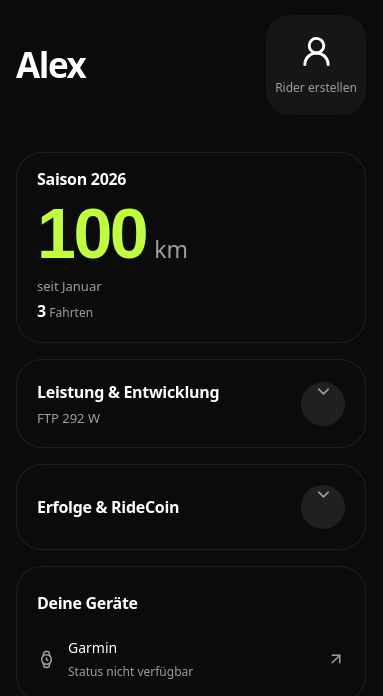
Test case: W3 profile review › explains CTL on demand without adding another permanent text block
Click the button "Leistung & Entwicklung FTP 292 W": (191, 404) [37, 380, 345, 427]
(page scrolled)
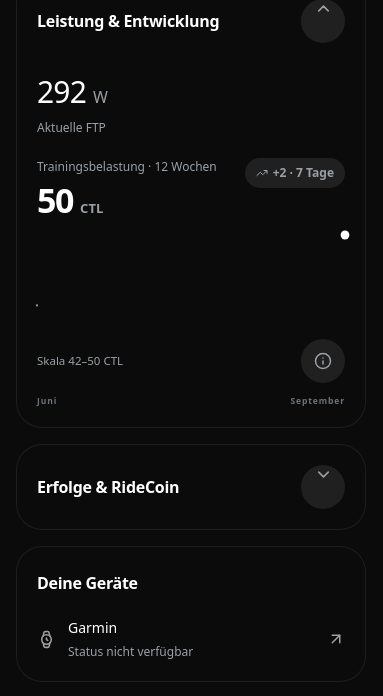
expect the text "CTL schätzt deine längerfristige" is not shown: met
Click the button named "Trainingsbelastung erklären": (323, 360) [301, 338, 345, 382]
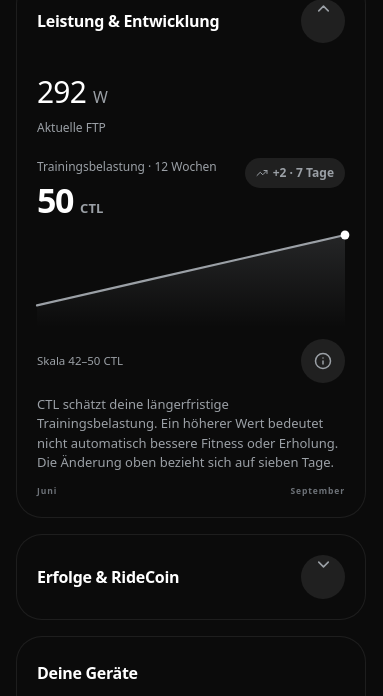
expect the text "nicht automatisch bessere Fitness" is shown: met, box [37, 394, 338, 471]
